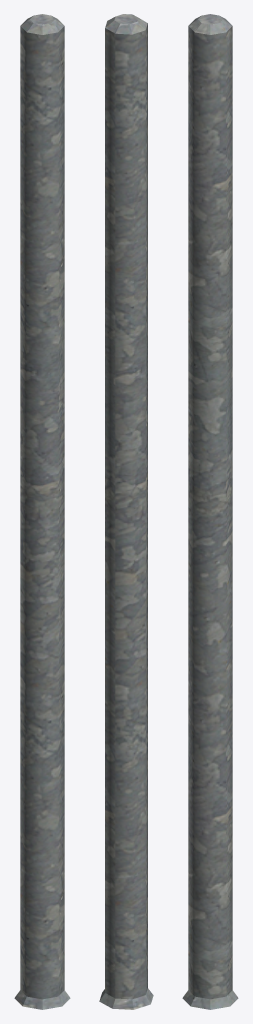
Rendered from Traffic-SignPole.fbx.
The picture shows the model from 3 angles, left to right: view 1: azimuth 90°, elevation 25°; view 2: azimuth 150°, elevation 25°; view 3: azimuth 270°, elevation 25°; orthographic projection.
Parts seen in each view (by area): view 1: Traffic-SignPole; view 2: Traffic-SignPole; view 3: Traffic-SignPole.
Part boxes in pixels (x1,y1,x2,y2): Traffic-SignPole: (14,14,70,1009); Traffic-SignPole: (99,14,153,1009); Traffic-SignPole: (182,14,238,1009).
Bounding box in the file's own units: 15.75 × 302 × 15.75.
